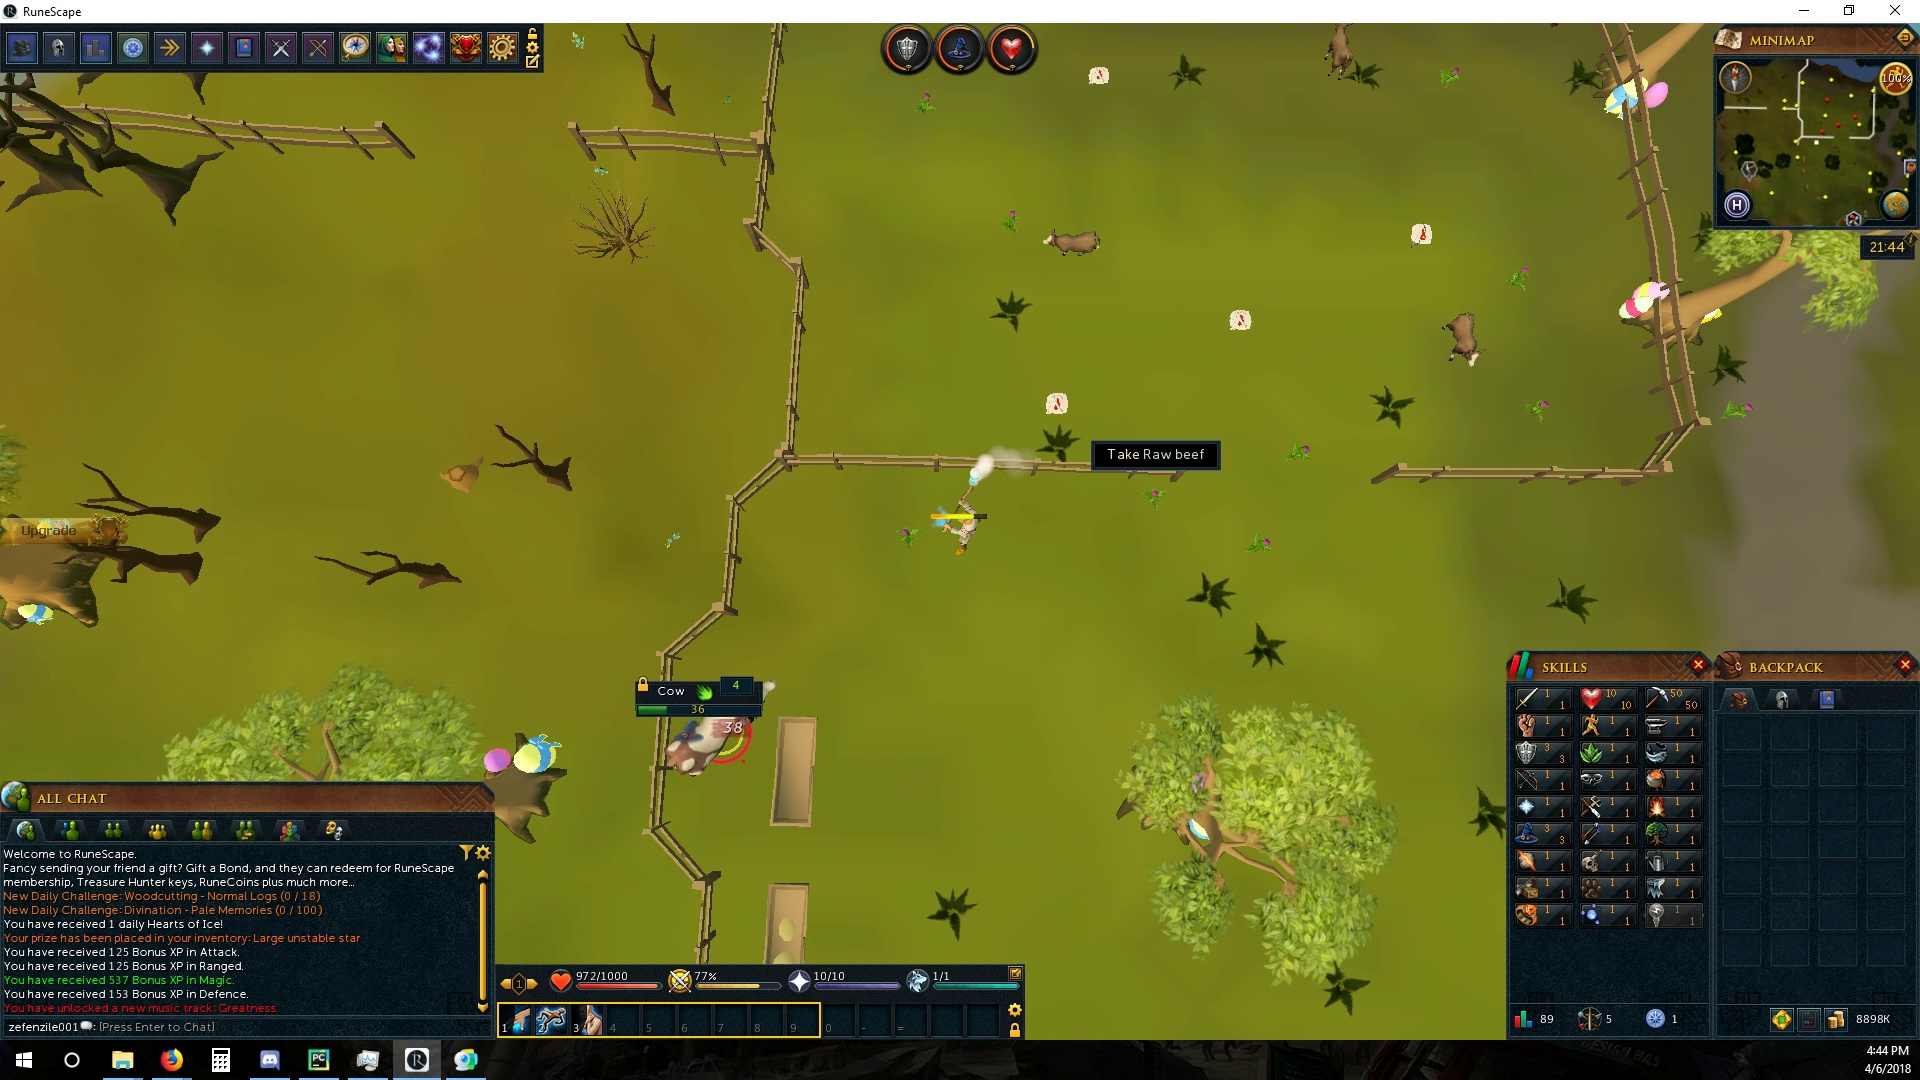calf: (1437, 311, 1484, 368), (1319, 22, 1358, 80), (1039, 228, 1102, 258)
cow: (661, 680, 782, 781)
cow_drop: (1406, 216, 1436, 247), (1043, 386, 1069, 417), (1232, 309, 1259, 334), (1087, 65, 1116, 87)
